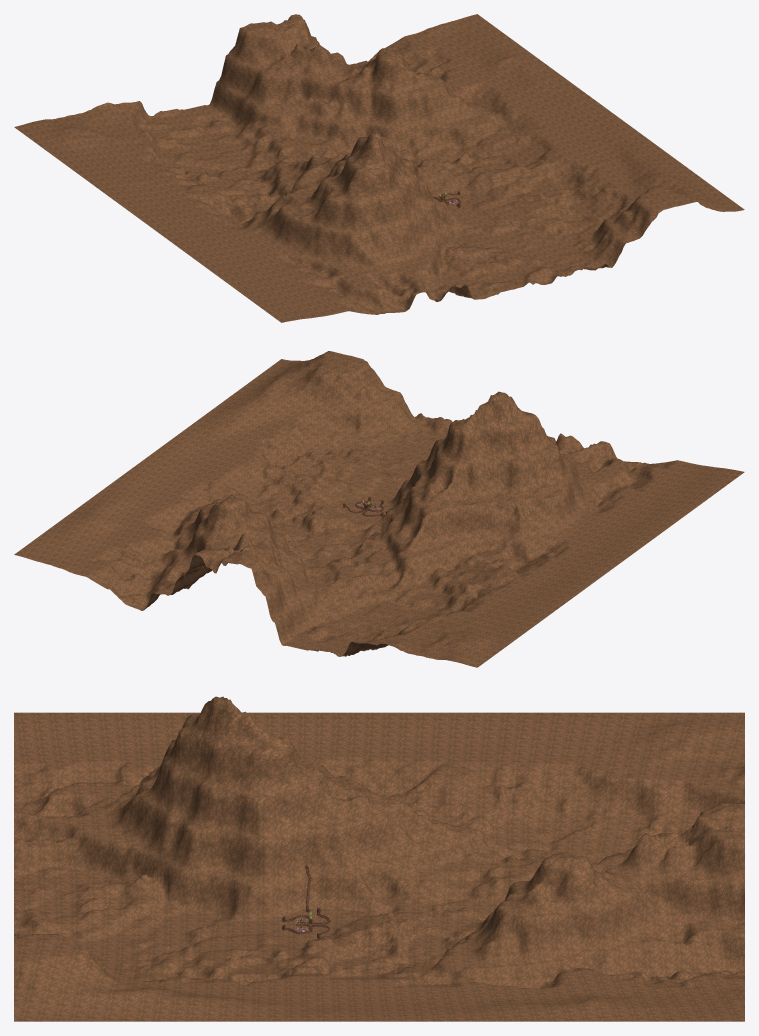
File: centipodium-transformed.glb
3 renders of one model, top to bottom at view 1: azimuth 30°, elevation 25°; view 2: azimuth 150°, elevation 25°; view 3: azimuth 270°, elevation 25°, orthographic. The views are drawn at different scales.
Parts seen in each view (by area): view 1: Landscape; view 2: Landscape; view 3: Landscape.
Part boxes in pixels (x1,y1,x2,y2): Landscape: [14, 14, 744, 322]; Landscape: [14, 351, 744, 667]; Landscape: [14, 696, 744, 1021].
Bounding box in the file's own units: 422 × 105 × 422.
Materials: 11 (8 with a texture image).
